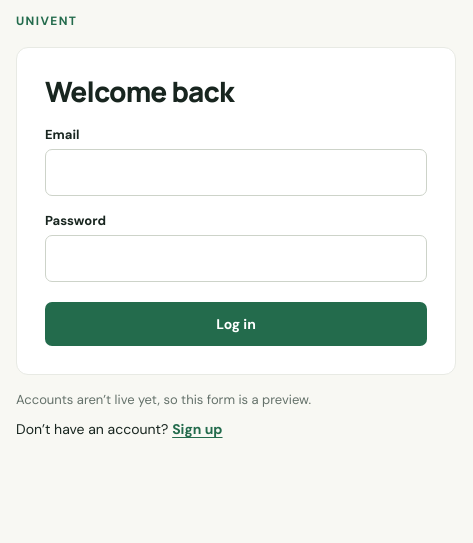
Auth page › switches to signup form
Click the button "Sign up": (197, 429) [172,420,223,438]
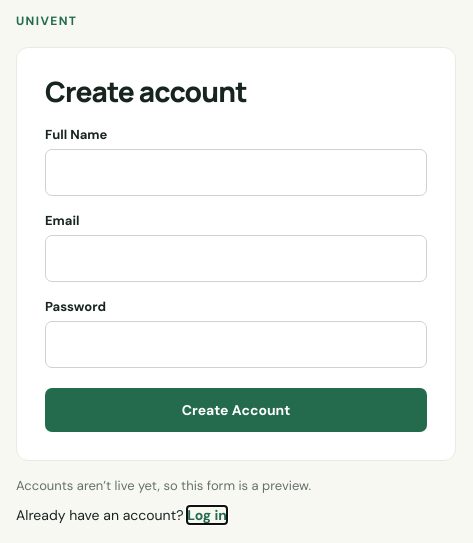
Expected: the field labelled "Full Name" is shown, [45,149,427,196]
Now the heading "Create account" is shown, box [45,72,247,110]
